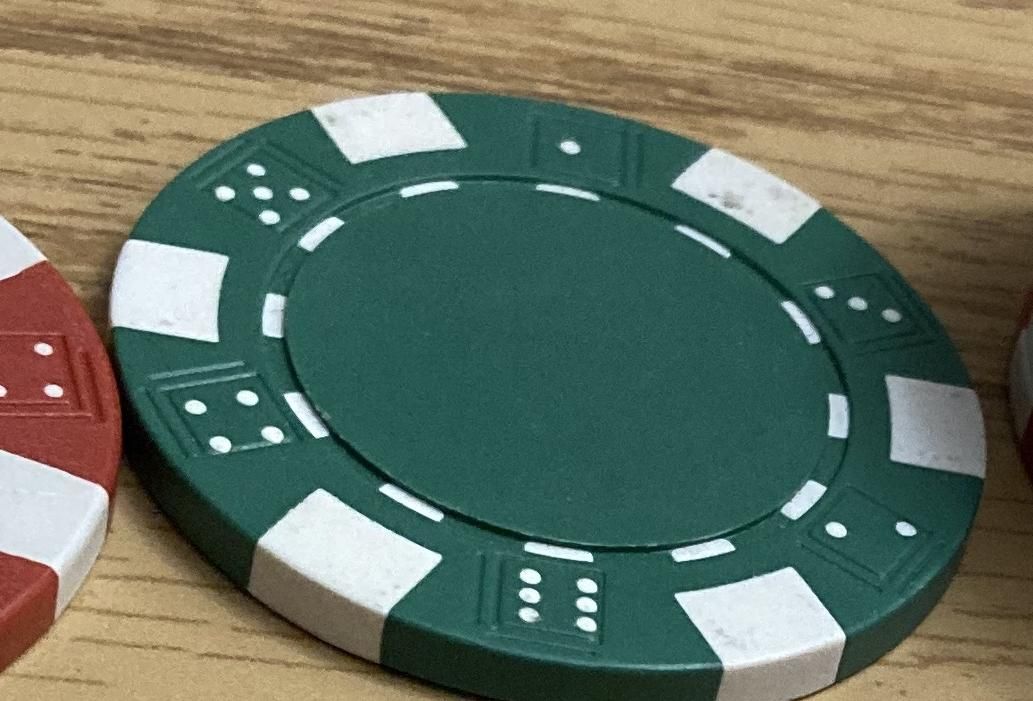Chip: (1, 1, 1033, 701)
